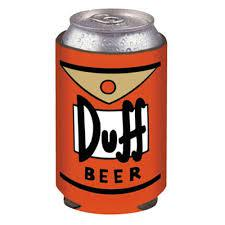beer: (53, 9, 168, 213)
